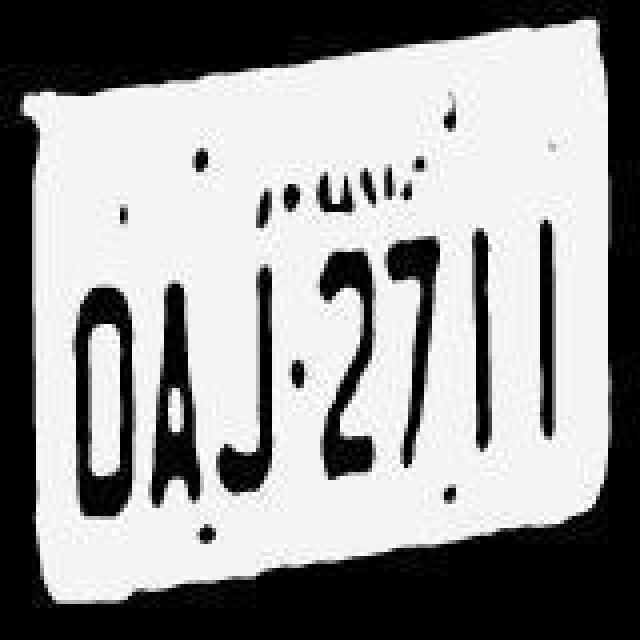1: (522, 210, 574, 462), (456, 214, 504, 466)
2: (308, 234, 380, 502)
7: (380, 228, 444, 492)
A: (144, 266, 208, 518)
J: (208, 244, 280, 500)
O: (64, 266, 144, 534)
